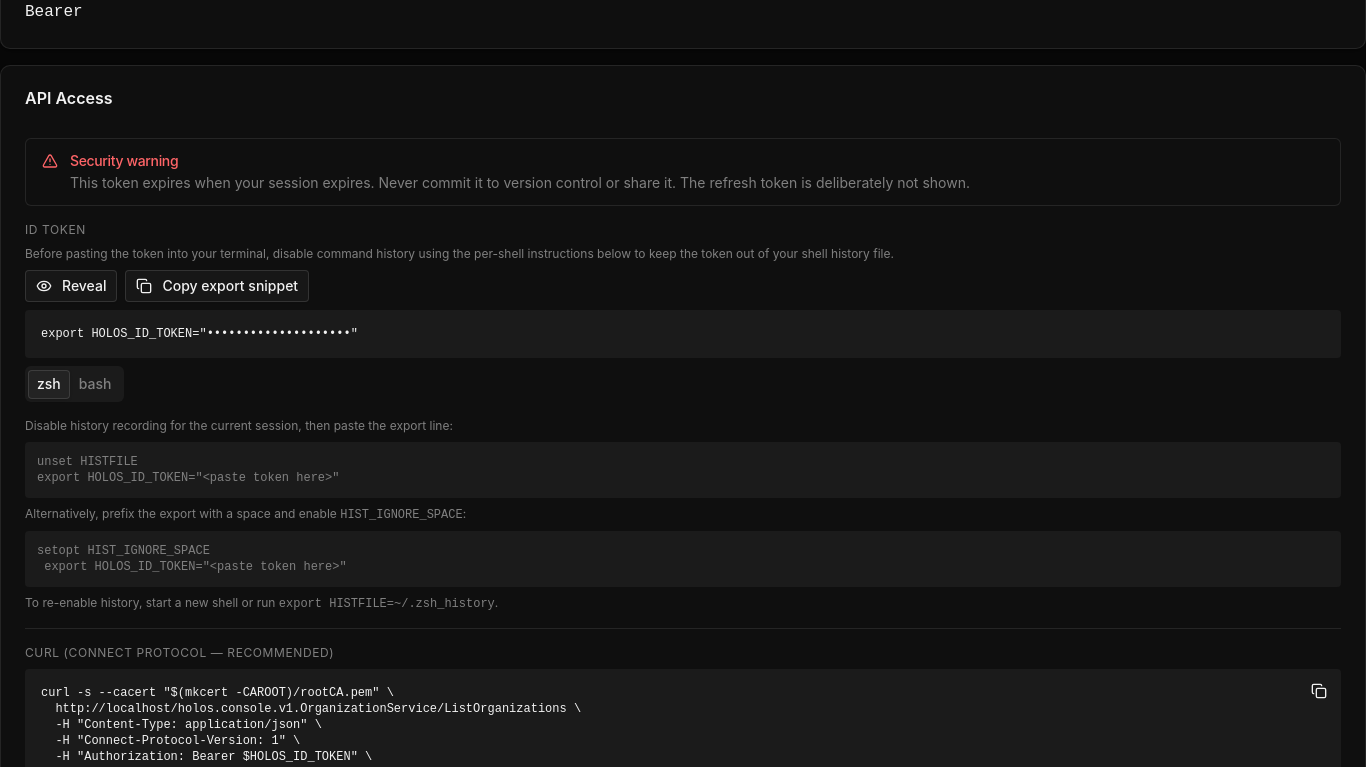
ProfilePage API Access section › clicking zsh tab after bash restores zsh content
(page scrolled)
# Switch to bash
Click the tab "bash".
click(95, 384)  # box [70,370,120,398]
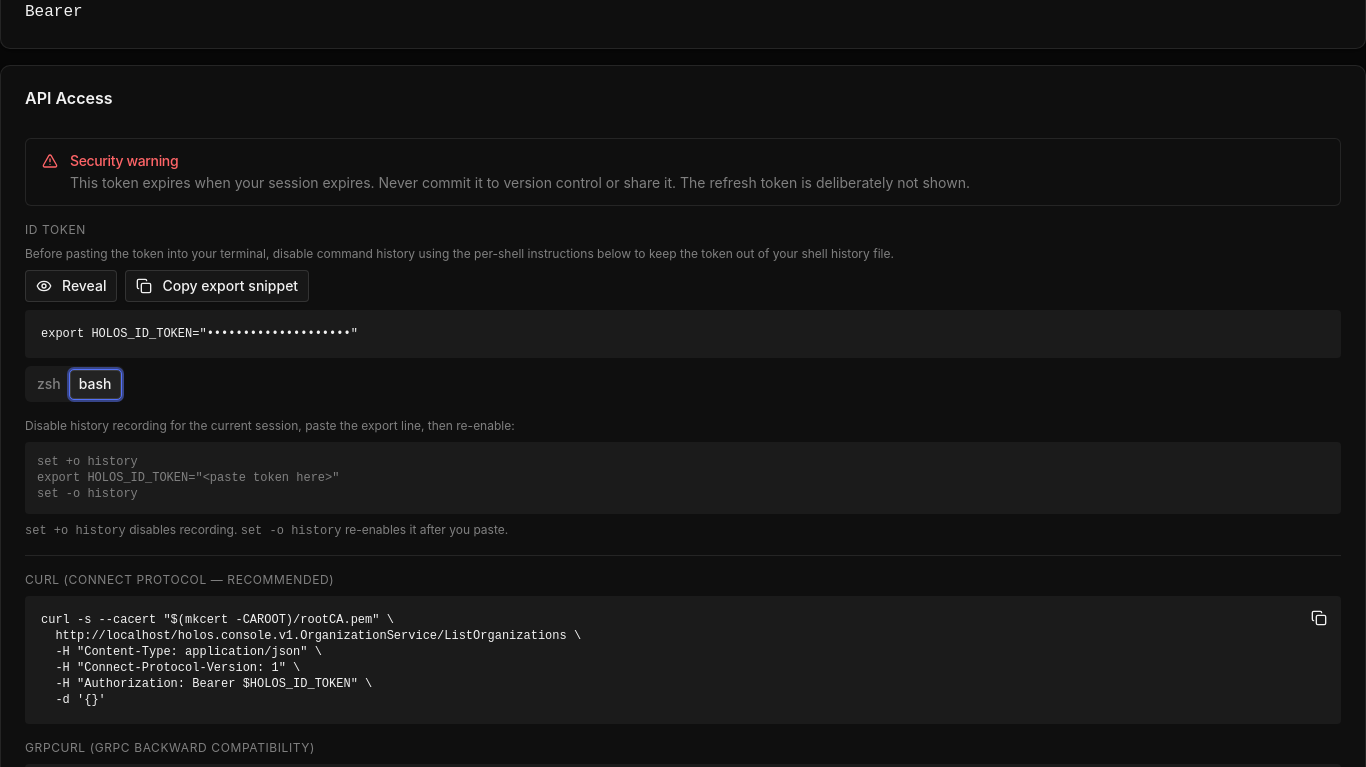
Expected: the panel shows "set +o history", [25,524,126,538]
# Switch back to zsh
Click the tab "zsh".
click(49, 384)  # box [28,370,70,398]
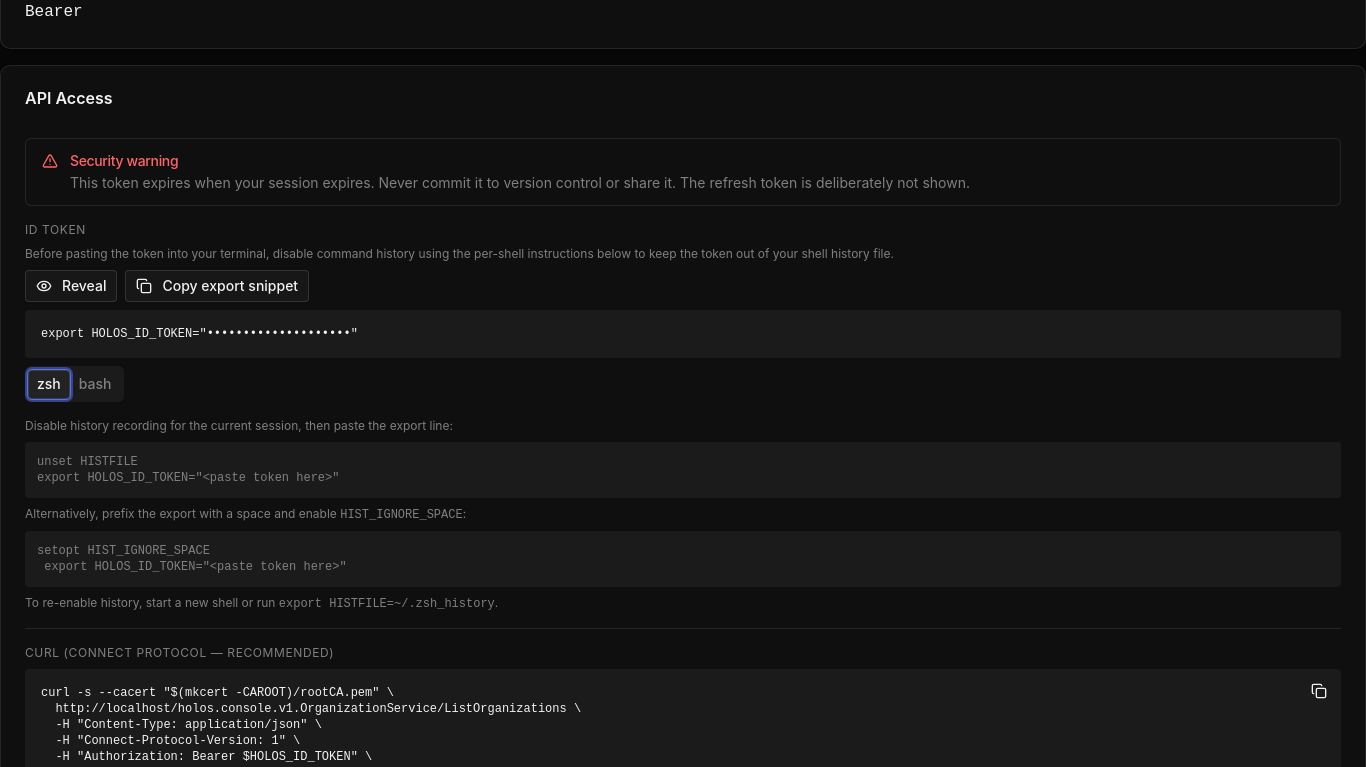
Expected: the panel shows "setopt", [37,544,347,574]
Expected: the text "set +o history" is gone
